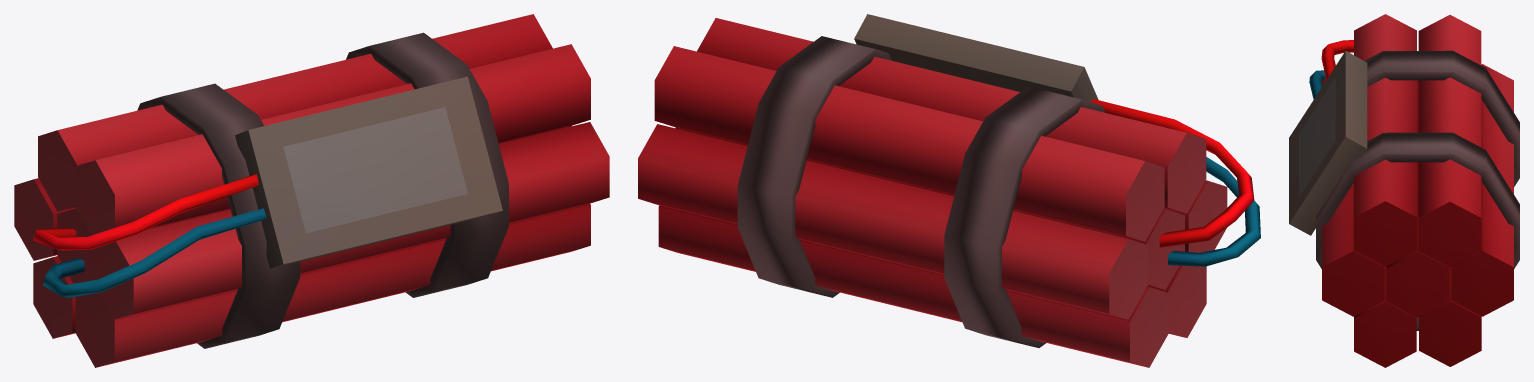
File: dynamite.glb
3 views of the same model, side by side, from view 1: azimuth 30°, elevation 25°; view 2: azimuth 150°, elevation 25°; view 3: azimuth 270°, elevation 25° (orthographic). The views are drawn at different scales.
Parts seen in each view (by area): view 1: dynamite3; view 2: dynamite3; view 3: dynamite3.
Boxes of the visible parts, left/top/right/bottom form: dynamite3: left=14, top=14, right=609, bottom=367; dynamite3: left=638, top=14, right=1260, bottom=367; dynamite3: left=1289, top=14, right=1519, bottom=367.
Bounding box in the file's own units: 0.24 × 0.0991 × 0.1118.
Materials: 1 (1 with a texture image).
